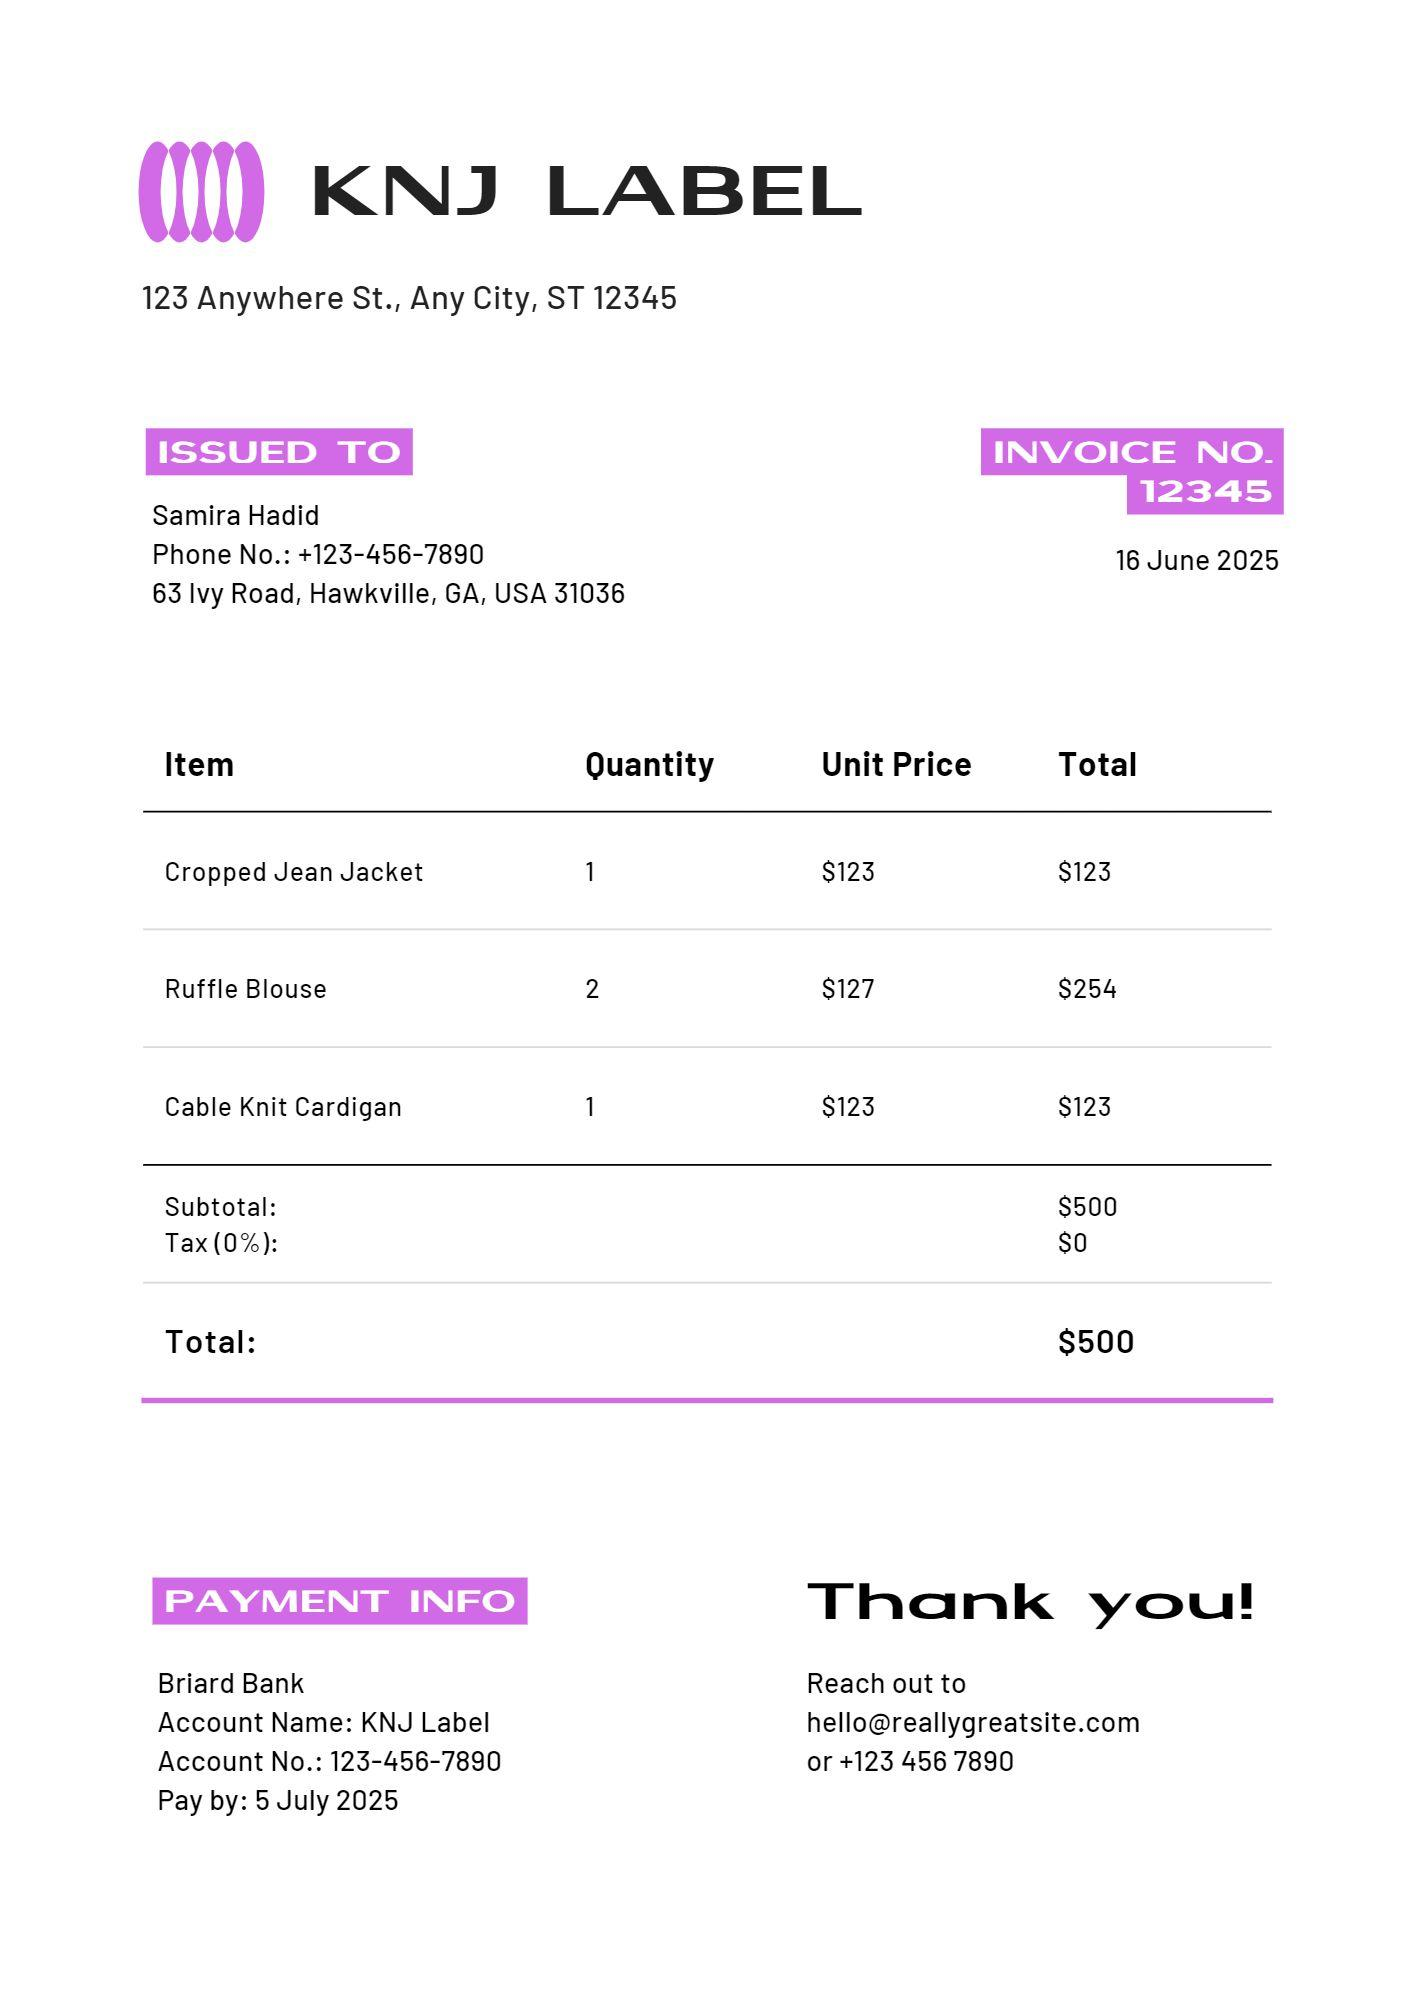ROI: (148, 721, 1235, 1431)
